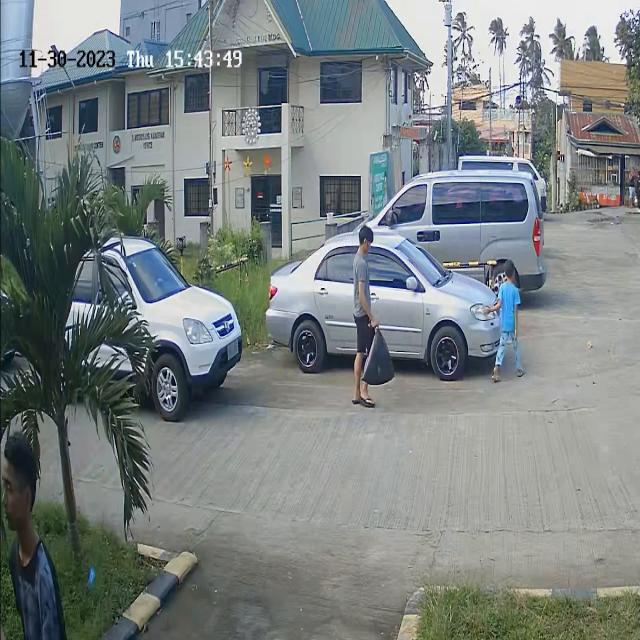garbage: (355, 314, 400, 392)
person: (2, 432, 49, 610), (495, 262, 524, 388), (352, 226, 379, 300), (12, 45, 41, 72)
